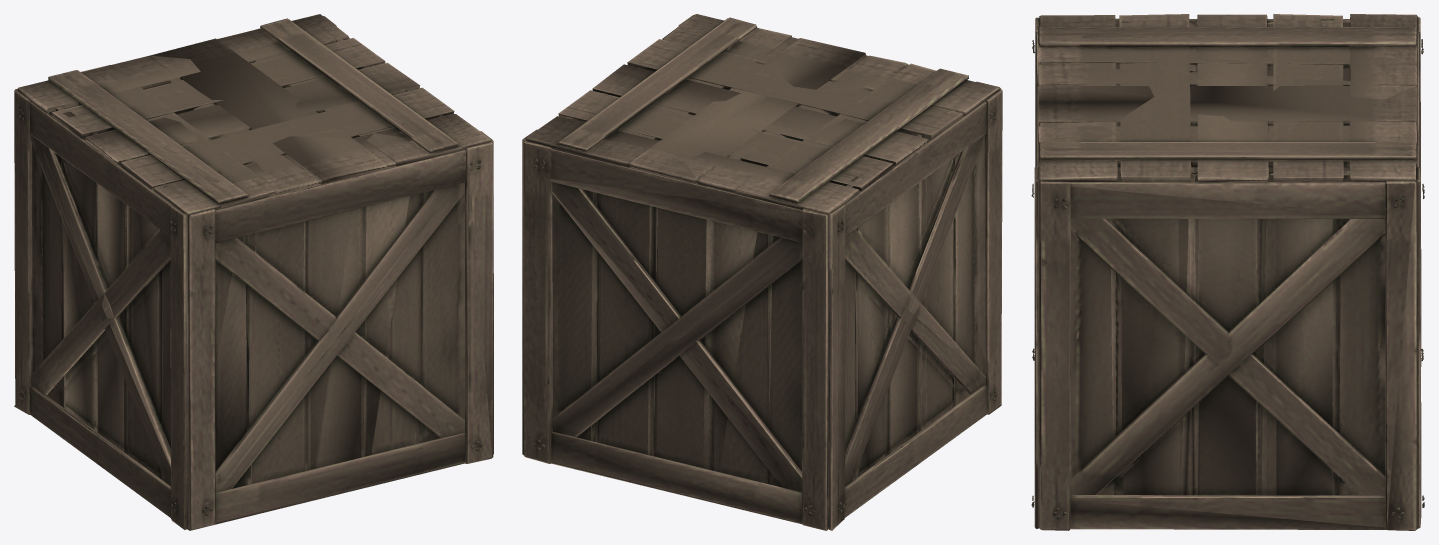
The model's file is rrr_prop_crate_v1.glb.
3 renders of one model, left to right at view 1: azimuth 30°, elevation 25°; view 2: azimuth 150°, elevation 25°; view 3: azimuth 270°, elevation 25°, orthographic. The views are drawn at different scales.
Visible parts, largest first — view 1: Mesh_0.001; view 2: Mesh_0.001; view 3: Mesh_0.001.
Boxes of the visible parts, left/top/right/bottom form: Mesh_0.001: left=14, top=14, right=493, bottom=530; Mesh_0.001: left=522, top=14, right=1002, bottom=530; Mesh_0.001: left=1031, top=14, right=1424, bottom=530.
Bounding box in the file's own units: 2.03 × 2 × 1.99.
1 material, 1 textured.
